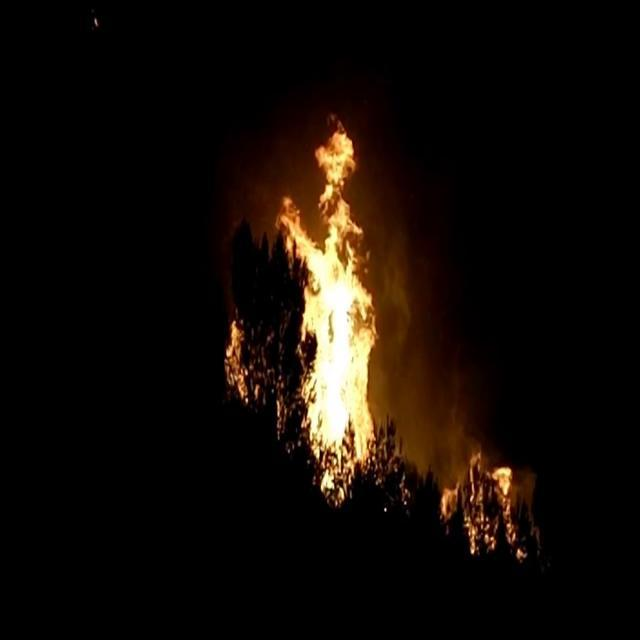Fire: (224, 112, 380, 510), (438, 447, 528, 567)
